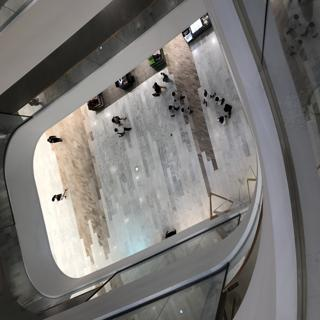person: (108, 121, 133, 139), (51, 190, 71, 211), (149, 84, 169, 102), (216, 99, 237, 116)
